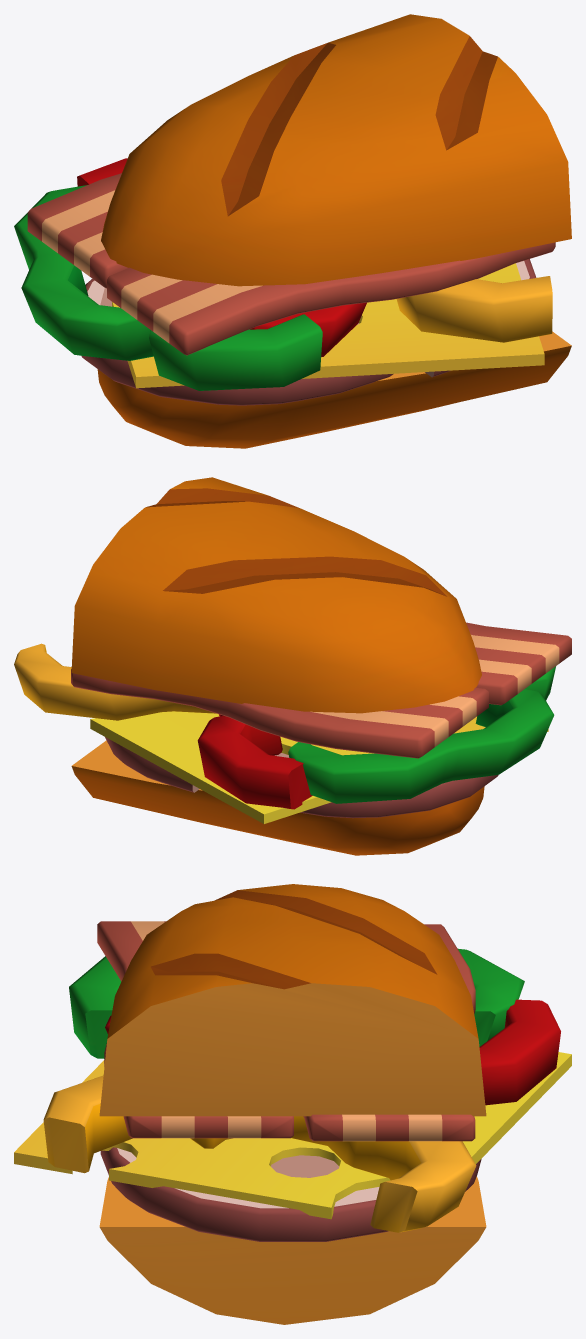
Rendered from Sandwich_half_04.fbx.
3 views of the same model, one above another, from view 1: azimuth 30°, elevation 25°; view 2: azimuth 150°, elevation 25°; view 3: azimuth 270°, elevation 25° (orthographic). The views are drawn at different scales.
Parts seen in each view (by area): view 1: Sandwich_half_04; view 2: Sandwich_half_04; view 3: Sandwich_half_04.
Part boxes in pixels (x1,y1,x2,y2): Sandwich_half_04: (14,14,571,448); Sandwich_half_04: (14,477,571,855); Sandwich_half_04: (14,884,571,1324).
Bounding box in the file's own units: 124 × 108 × 73.36.
